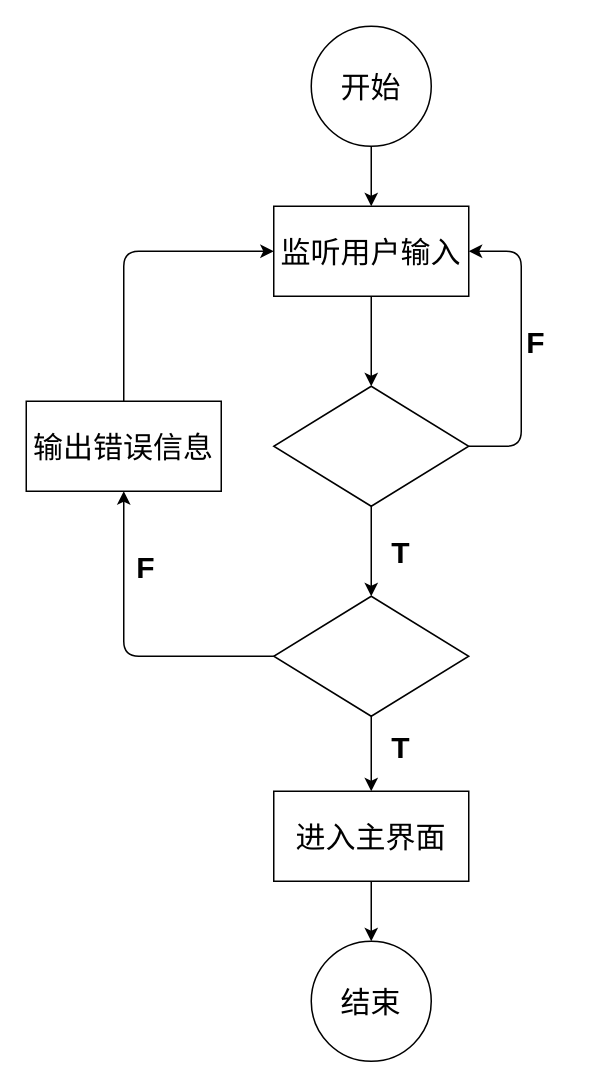
This 593x1088 diagram has some shape labels left out. Here are the shapes that lost their labels. From the top down, the centre of each, then its label:
the point at 370,445: 用户是否提交
the point at 370,655: 用户名密码是否正确
